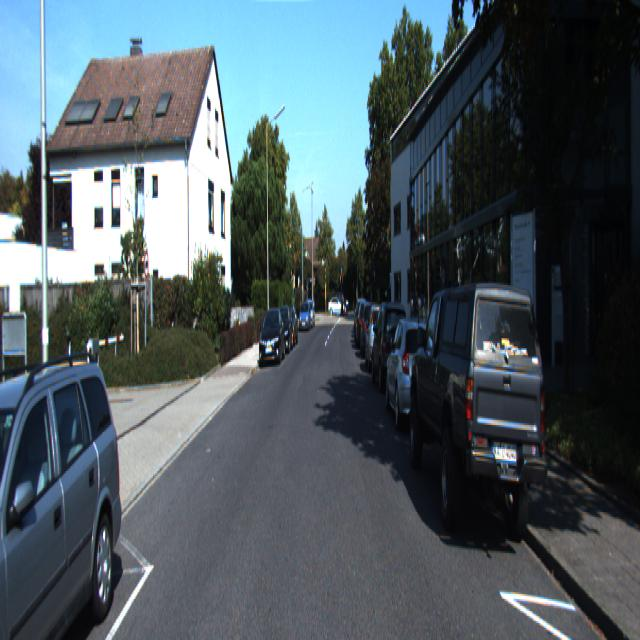Car: (407, 268, 553, 560), (0, 345, 128, 638), (385, 312, 442, 436), (372, 301, 410, 399), (365, 303, 393, 375), (259, 307, 285, 367), (360, 301, 383, 361), (299, 300, 312, 331)
